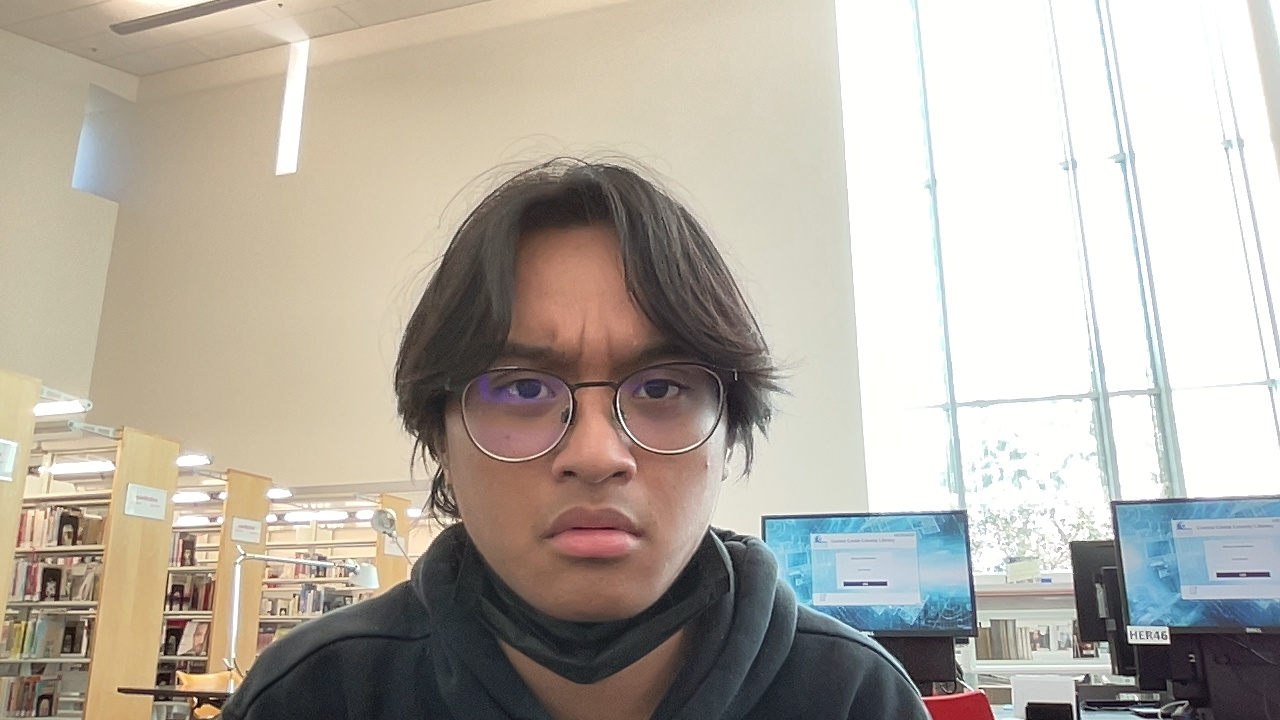fear: (428, 169, 741, 629)
